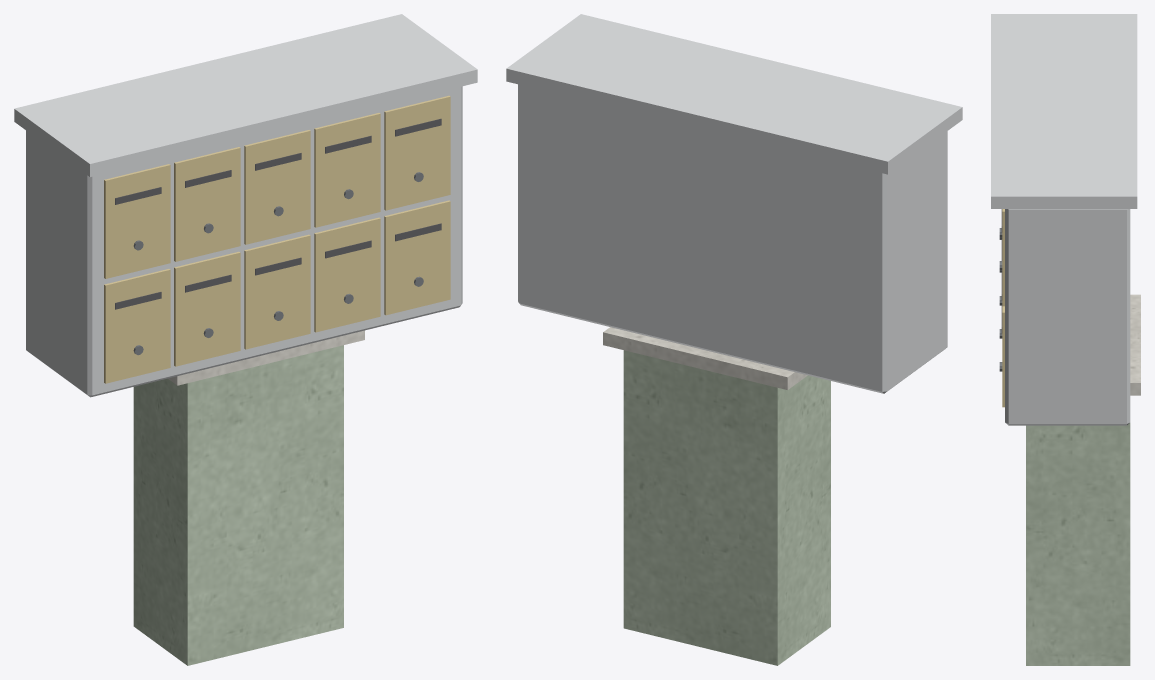
Rendered from mailboxes.glb.
The picture shows the model from 3 angles, left to right: view 1: azimuth 30°, elevation 25°; view 2: azimuth 150°, elevation 25°; view 3: azimuth 270°, elevation 25°; orthographic projection. The views are drawn at different scales.
Visible parts, largest first — view 1: mailboxes_alu, mailboxes_brass, mailboxes_stucco, mailboxes_dark, mailboxes_coping, mailboxes_steel_d; view 2: mailboxes_alu, mailboxes_stucco, mailboxes_coping; view 3: mailboxes_alu, mailboxes_stucco, mailboxes_coping, mailboxes_brass.
Boxes of the visible parts, left/top/right/bottom form: mailboxes_alu: left=14, top=14, right=477, bottom=397; mailboxes_brass: left=104, top=95, right=450, bottom=383; mailboxes_stucco: left=133, top=345, right=343, bottom=665; mailboxes_dark: left=115, top=118, right=441, bottom=309; mailboxes_coping: left=168, top=330, right=364, bottom=385; mailboxes_steel_d: left=133, top=172, right=423, bottom=355; mailboxes_alu: left=506, top=14, right=962, bottom=393; mailboxes_stucco: left=623, top=350, right=830, bottom=665; mailboxes_coping: left=603, top=327, right=807, bottom=389; mailboxes_alu: left=991, top=14, right=1137, bottom=425; mailboxes_stucco: left=1026, top=423, right=1130, bottom=665; mailboxes_coping: left=1130, top=294, right=1140, bottom=395; mailboxes_brass: left=1002, top=209, right=1004, bottom=407.
Size of the model in its own units: 1.24 by 1.66 by 0.43.
Materials: 6 (2 with a texture image).
